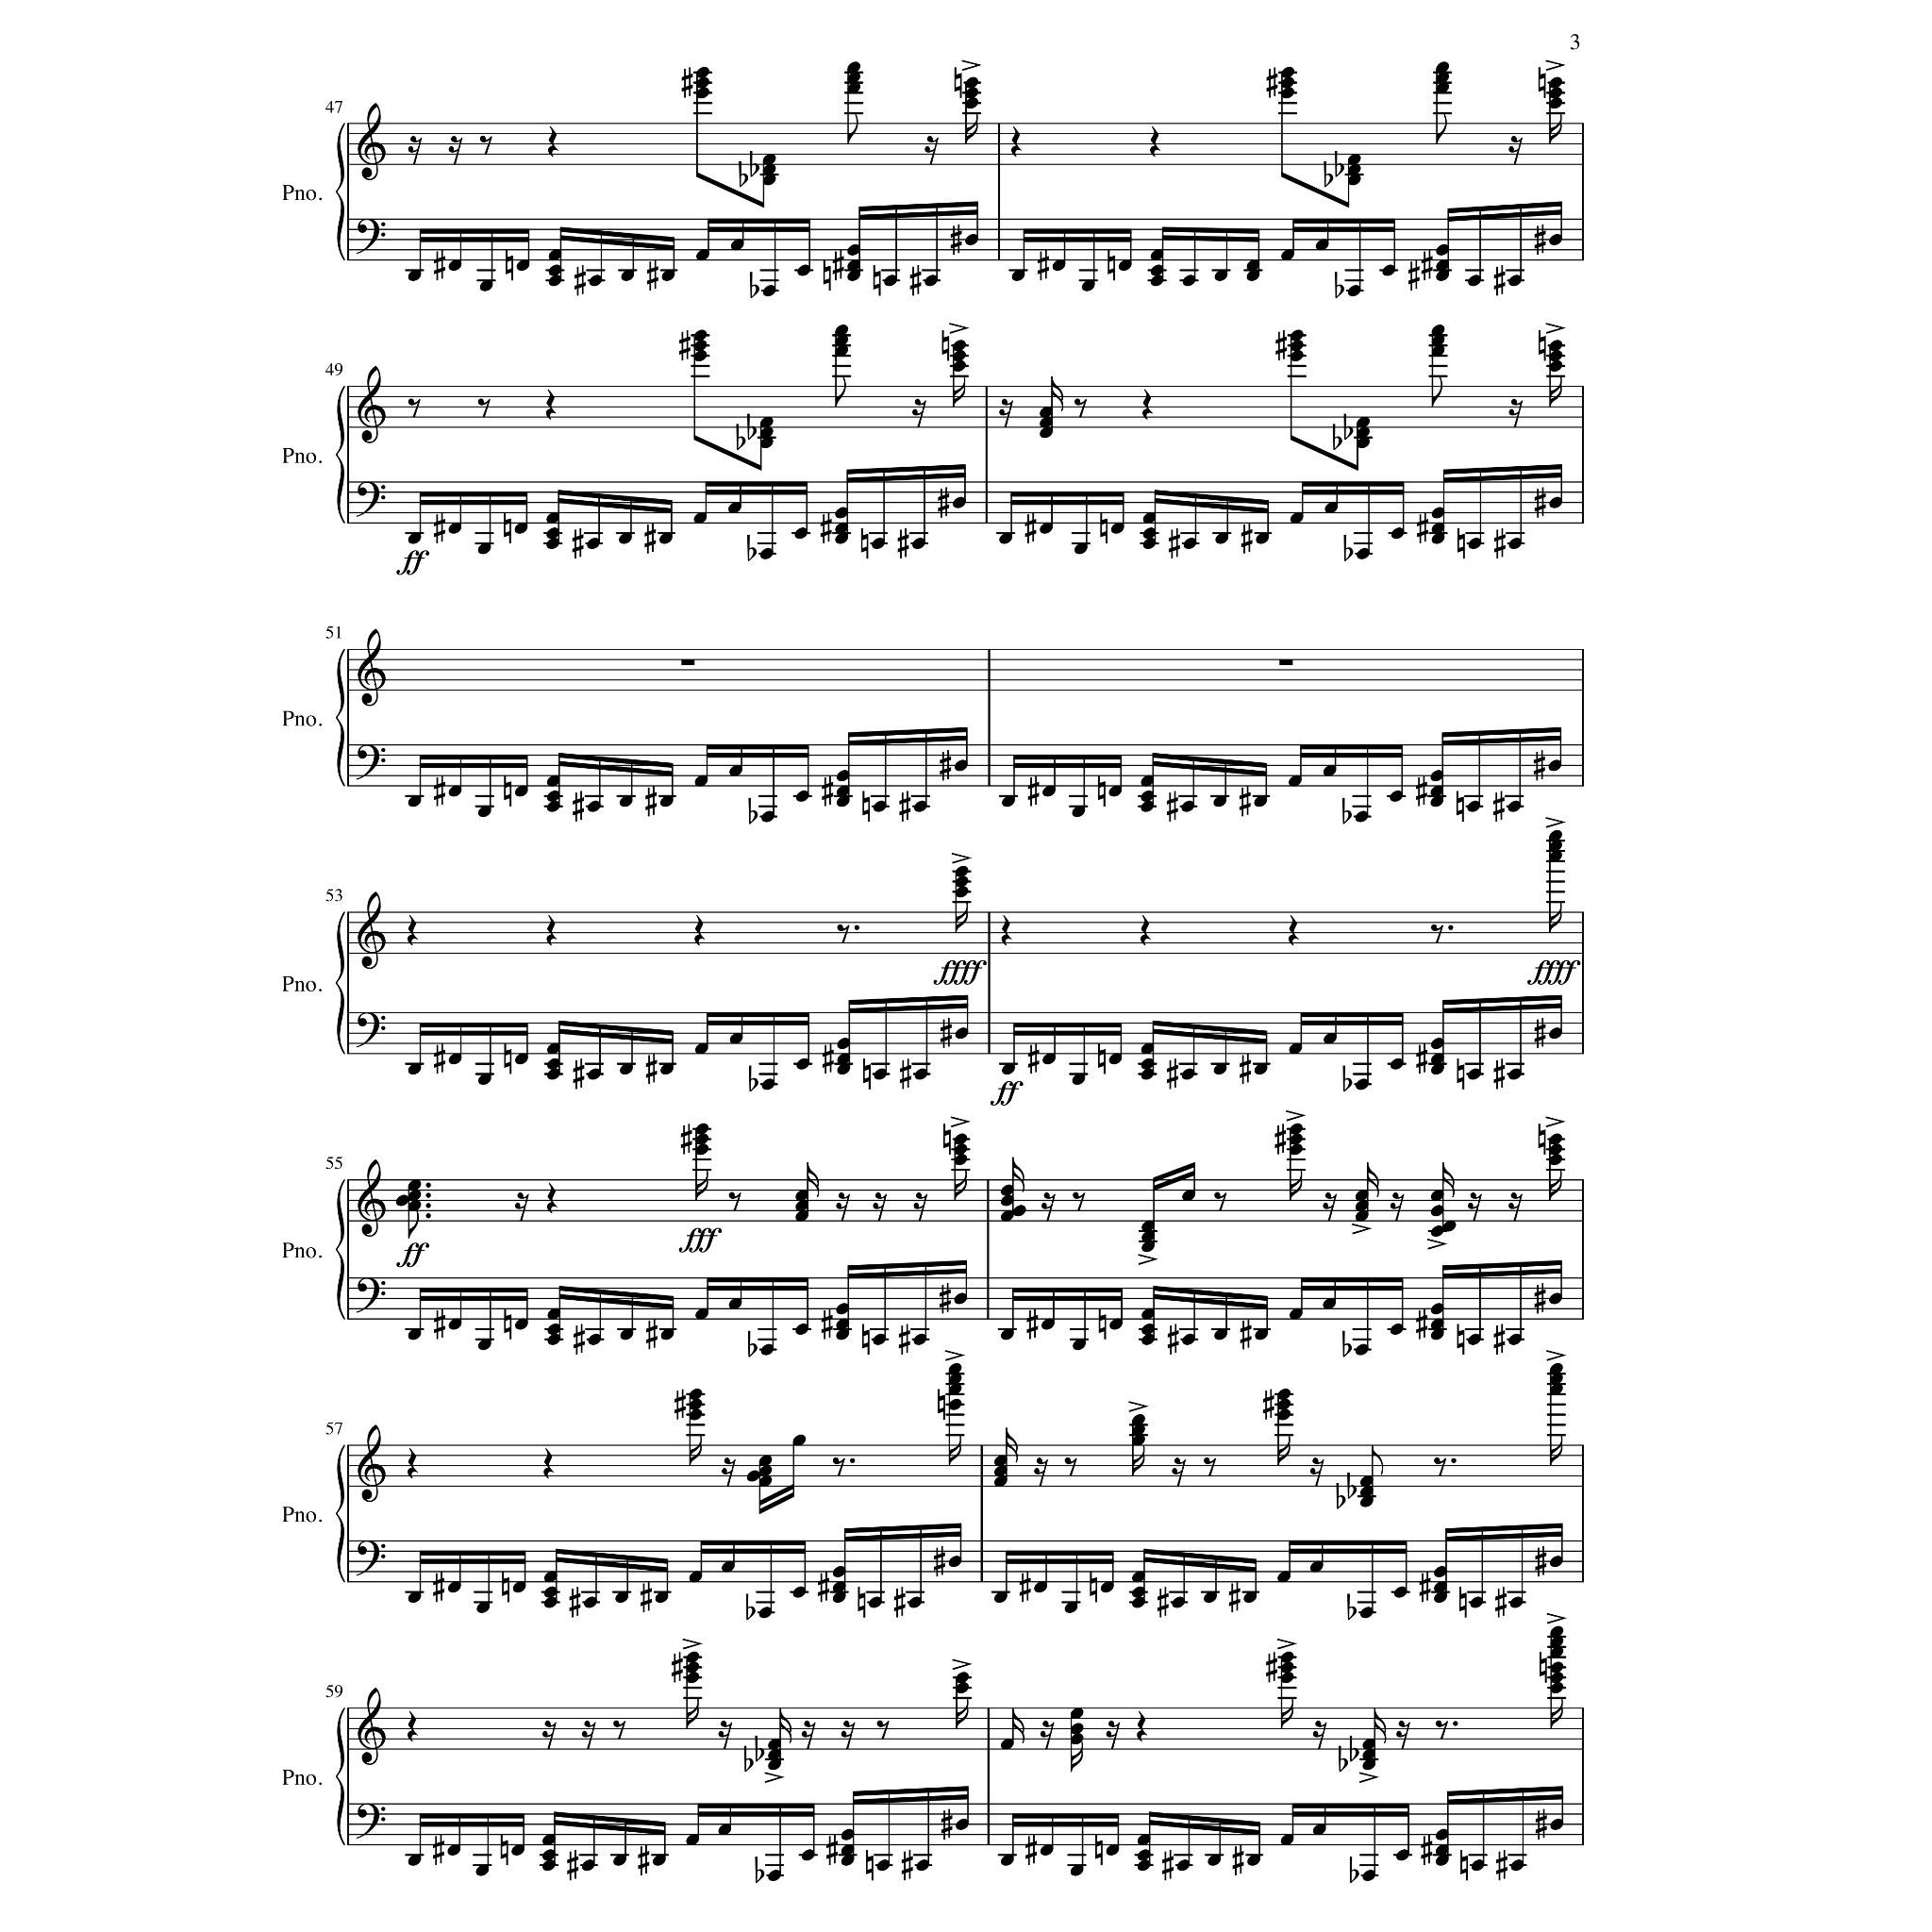brace: (334, 911, 345, 1054), (334, 1180, 345, 1320), (334, 124, 345, 262), (334, 386, 345, 524), (334, 649, 345, 787), (334, 1445, 345, 1583), (334, 1707, 345, 1845)
fClef: (354, 481, 386, 518), (354, 1803, 386, 1840), (354, 219, 386, 255), (354, 745, 386, 780), (354, 1012, 386, 1047), (354, 1277, 386, 1313), (354, 1541, 386, 1576)
flag16thDown: (954, 1169, 968, 1201), (1550, 113, 1562, 145), (966, 113, 978, 145), (1550, 375, 1562, 407), (954, 375, 966, 407), (1550, 902, 1562, 934), (955, 902, 968, 934), (1290, 1169, 1302, 1201), (1550, 1169, 1562, 1201), (695, 1169, 708, 1201), (1132, 1445, 1145, 1477), (1277, 1435, 1290, 1467), (1550, 1435, 1562, 1467), (948, 1435, 961, 1467), (1281, 1698, 1293, 1730), (1550, 1698, 1562, 1730), (686, 1698, 699, 1730), (955, 1698, 968, 1730), (1070, 1743, 1083, 1773), (690, 1435, 701, 1467)
flag16thUp: (1012, 1157, 1024, 1194), (1051, 377, 1063, 412), (1366, 1162, 1378, 1198), (1442, 1162, 1454, 1198), (807, 1162, 819, 1198), (1005, 1428, 1017, 1463), (1012, 1709, 1024, 1744), (1375, 1709, 1387, 1744), (780, 1709, 793, 1744)
flag8thDown: (1431, 375, 1442, 407), (835, 375, 846, 407), (1437, 115, 1447, 145), (847, 115, 858, 145), (409, 1208, 418, 1238)
flag8thUp: (1371, 1445, 1384, 1476)
gClef: (357, 628, 386, 708), (357, 103, 386, 180), (357, 366, 386, 444), (357, 892, 386, 970), (357, 1159, 386, 1237), (357, 1424, 386, 1502), (357, 1688, 386, 1766)
noteheadBlack: (1182, 274, 1196, 287), (1214, 269, 1228, 281), (1150, 249, 1164, 262), (1150, 274, 1164, 287), (1246, 269, 1260, 281), (1279, 249, 1293, 262), (1279, 67, 1293, 80), (1279, 76, 1293, 88), (1279, 87, 1293, 99), (1246, 258, 1260, 271), (1315, 239, 1329, 251), (1010, 269, 1024, 281), (1118, 258, 1132, 271), (1081, 280, 1095, 292), (1051, 258, 1065, 271), (1548, 87, 1562, 99), (1548, 234, 1562, 246), (1548, 76, 1562, 88), (1548, 97, 1562, 110), (1507, 274, 1522, 287), (1346, 285, 1361, 297), (1346, 154, 1361, 166), (1346, 173, 1361, 186), (1467, 274, 1481, 287), (587, 274, 602, 287), (548, 249, 563, 262), (548, 274, 563, 287), (515, 258, 529, 271), (662, 269, 676, 281), (695, 249, 709, 262), (695, 67, 709, 80), (695, 76, 709, 88), (695, 87, 709, 99), (621, 269, 635, 281), (407, 269, 421, 281), (479, 280, 494, 292), (448, 258, 462, 271), (883, 274, 897, 287), (847, 244, 862, 257), (847, 258, 862, 271), (847, 62, 862, 74), (847, 73, 862, 85), (847, 81, 862, 94), (964, 234, 978, 246), (964, 76, 978, 88), (964, 87, 978, 99), (964, 97, 978, 110), (847, 269, 862, 281), (924, 274, 938, 287), (763, 285, 777, 297), (763, 154, 777, 166), (763, 173, 777, 186), (1214, 533, 1228, 545), (1182, 538, 1196, 550), (1141, 511, 1155, 524), (1141, 527, 1155, 540), (1141, 538, 1155, 550), (1323, 502, 1338, 515), (1290, 511, 1304, 524), (1290, 329, 1304, 341), (1290, 340, 1304, 352), (1290, 350, 1304, 363), (1254, 533, 1269, 545), (1039, 522, 1053, 534), (1039, 416, 1053, 428), (1039, 426, 1053, 439), (1109, 522, 1123, 534), (1074, 543, 1088, 556), (1548, 350, 1562, 363), (1548, 497, 1562, 510), (1548, 340, 1562, 352), (1548, 359, 1562, 372), (1507, 538, 1522, 550), (1391, 527, 1405, 540), (1355, 416, 1369, 428), (1355, 426, 1369, 439), (1355, 437, 1369, 449), (1467, 538, 1481, 550), (1431, 508, 1445, 520), (1431, 522, 1445, 534), (1431, 533, 1445, 545), (1431, 324, 1445, 336), (1431, 334, 1445, 347), (1431, 345, 1445, 357), (586, 538, 600, 550), (545, 511, 559, 524), (545, 527, 559, 540), (545, 538, 559, 550), (513, 522, 527, 534), (694, 511, 708, 524), (694, 329, 708, 341), (694, 340, 708, 352), (694, 350, 708, 363), (658, 533, 672, 545), (617, 533, 632, 545), (407, 533, 421, 545), (478, 543, 492, 556), (448, 522, 462, 534), (911, 538, 925, 550), (870, 538, 885, 550), (998, 533, 1012, 545), (952, 497, 966, 510), (952, 340, 966, 352), (952, 350, 966, 363), (952, 359, 966, 372), (759, 416, 773, 428), (759, 426, 773, 439), (759, 437, 773, 449), (727, 502, 741, 515), (835, 345, 849, 357), (835, 334, 849, 347), (794, 527, 809, 540), (835, 324, 849, 336), (835, 533, 849, 545), (835, 508, 849, 520), (835, 522, 849, 534), (1180, 800, 1194, 812), (1139, 775, 1154, 787), (1139, 800, 1154, 812), (1288, 775, 1302, 787), (1253, 796, 1267, 809), (1212, 796, 1226, 809), (1000, 796, 1014, 809), (1108, 786, 1122, 798), (1070, 805, 1085, 817), (1040, 786, 1054, 798), (1548, 759, 1562, 771), (1507, 800, 1522, 812), (1353, 810, 1368, 823), (1322, 764, 1336, 777), (1467, 800, 1481, 812), (1430, 770, 1444, 782), (1430, 786, 1444, 798), (1430, 796, 1444, 809), (545, 775, 559, 787), (545, 800, 559, 812), (513, 786, 527, 798), (478, 805, 492, 817), (658, 796, 672, 809), (619, 796, 633, 809), (586, 800, 600, 812), (448, 786, 462, 798), (407, 796, 421, 809), (835, 786, 849, 798), (872, 800, 886, 812), (835, 770, 849, 782), (835, 796, 849, 809), (954, 759, 968, 771), (913, 800, 927, 812), (727, 764, 741, 777), (694, 775, 708, 787), (761, 810, 775, 823), (1212, 1063, 1226, 1076), (1180, 1069, 1194, 1081), (1139, 1042, 1154, 1054), (1139, 1058, 1154, 1070), (1139, 1069, 1154, 1081), (1288, 1042, 1302, 1054), (1253, 1063, 1267, 1076), (1000, 1063, 1014, 1076), (1108, 1053, 1122, 1065), (1040, 1053, 1054, 1065), (1548, 1028, 1562, 1040), (1548, 830, 1562, 842), (1548, 840, 1562, 853), (1548, 851, 1562, 863), (1430, 1053, 1444, 1065), (1430, 1063, 1444, 1076), (1389, 1058, 1403, 1070), (1430, 1039, 1444, 1051), (1353, 1079, 1368, 1092), (1322, 1033, 1336, 1046), (1507, 1069, 1522, 1081), (1467, 1069, 1481, 1081), (545, 1069, 559, 1081), (545, 1042, 559, 1054), (545, 1058, 559, 1070), (587, 1069, 602, 1081), (513, 1053, 527, 1065), (694, 1042, 708, 1054), (658, 1063, 672, 1076), (619, 1063, 633, 1076), (448, 1053, 462, 1065), (407, 1063, 421, 1076), (913, 1069, 927, 1081), (872, 1069, 886, 1081), (837, 1039, 851, 1051), (954, 1028, 968, 1040), (954, 865, 968, 878), (954, 876, 968, 888), (954, 886, 968, 899), (837, 1053, 851, 1065), (729, 1033, 743, 1046), (761, 1079, 775, 1092), (796, 1058, 810, 1070), (837, 1063, 851, 1076), (1214, 1329, 1228, 1341), (1180, 1334, 1194, 1346), (1180, 1189, 1194, 1201), (1322, 1297, 1336, 1309), (1254, 1329, 1269, 1341), (1288, 1307, 1302, 1320), (1288, 1123, 1302, 1136), (1288, 1134, 1302, 1146), (1040, 1318, 1054, 1330), (1139, 1307, 1154, 1320), (1139, 1323, 1154, 1336), (1139, 1334, 1154, 1346), (1139, 1221, 1154, 1233), (1139, 1240, 1154, 1253), (1109, 1318, 1123, 1330), (1548, 1293, 1562, 1306), (1548, 1134, 1562, 1146), (1548, 1154, 1562, 1166), (1507, 1334, 1522, 1346), (1389, 1323, 1403, 1336), (1353, 1189, 1368, 1201), (1353, 1200, 1368, 1212), (1353, 1210, 1368, 1223), (1467, 1334, 1481, 1346), (1430, 1304, 1444, 1316), (1430, 1318, 1444, 1330), (1430, 1329, 1444, 1341), (1430, 1189, 1444, 1201), (1430, 1205, 1444, 1217), (1442, 1221, 1456, 1233), (1430, 1224, 1444, 1237), (547, 1307, 561, 1320), (587, 1334, 602, 1346), (547, 1323, 561, 1336), (547, 1334, 561, 1346), (694, 1307, 708, 1320), (694, 1123, 708, 1136), (694, 1134, 708, 1146), (513, 1318, 527, 1330), (660, 1329, 674, 1341), (619, 1329, 633, 1341), (407, 1180, 421, 1192), (407, 1189, 421, 1201), (395, 1194, 409, 1207), (407, 1200, 421, 1212), (407, 1329, 421, 1341), (478, 1339, 492, 1352), (448, 1318, 462, 1330), (913, 1334, 927, 1346), (954, 1154, 968, 1166), (872, 1334, 886, 1346), (1000, 1329, 1014, 1341), (1000, 1184, 1014, 1196), (1000, 1194, 1014, 1207), (1012, 1205, 1026, 1217), (1000, 1210, 1014, 1223), (954, 1293, 968, 1306), (954, 1134, 968, 1146), (794, 1323, 809, 1336), (794, 1189, 809, 1201), (794, 1200, 809, 1212), (794, 1210, 809, 1223), (727, 1297, 741, 1309), (835, 1318, 849, 1330), (835, 1329, 849, 1341), (835, 1304, 849, 1316), (1131, 1596, 1145, 1608), (1171, 1596, 1185, 1608), (1131, 1587, 1145, 1599), (1131, 1571, 1145, 1583), (1276, 1571, 1290, 1583), (1276, 1389, 1290, 1401), (1276, 1398, 1290, 1410), (1276, 1408, 1290, 1421), (1203, 1591, 1217, 1603), (1033, 1582, 1047, 1594), (1131, 1414, 1145, 1426), (1131, 1424, 1145, 1437), (1131, 1435, 1145, 1447), (1099, 1582, 1113, 1594), (1063, 1601, 1077, 1614), (1548, 1555, 1562, 1568), (1548, 1362, 1562, 1375), (1548, 1373, 1562, 1385), (1548, 1384, 1562, 1396), (1509, 1596, 1523, 1608), (1468, 1596, 1483, 1608), (1359, 1606, 1373, 1619), (1359, 1476, 1373, 1488), (1359, 1495, 1373, 1507), (1309, 1560, 1323, 1573), (1433, 1566, 1447, 1578), (1433, 1582, 1447, 1594), (1433, 1591, 1447, 1603), (1392, 1587, 1407, 1599), (614, 1591, 628, 1603), (582, 1596, 596, 1608), (655, 1591, 669, 1603), (543, 1571, 557, 1583), (543, 1587, 557, 1599), (543, 1596, 557, 1608), (720, 1560, 734, 1573), (688, 1571, 702, 1583), (688, 1389, 702, 1401), (688, 1398, 702, 1410), (688, 1408, 702, 1421), (407, 1591, 421, 1603), (511, 1582, 525, 1594), (476, 1601, 490, 1614), (446, 1582, 460, 1594), (908, 1596, 922, 1608), (948, 1398, 962, 1410), (867, 1596, 881, 1608), (993, 1591, 1007, 1603), (993, 1454, 1007, 1467), (993, 1465, 1007, 1477), (993, 1476, 1007, 1488), (948, 1555, 962, 1568), (948, 1362, 962, 1375), (948, 1373, 962, 1385), (948, 1384, 962, 1396), (793, 1587, 807, 1599), (793, 1435, 807, 1447), (757, 1606, 771, 1619), (757, 1454, 771, 1467), (757, 1465, 771, 1477), (745, 1470, 759, 1483), (757, 1476, 771, 1488), (832, 1566, 846, 1578), (832, 1582, 846, 1594), (832, 1591, 846, 1603), (1177, 1859, 1191, 1872), (1207, 1854, 1221, 1867), (1136, 1833, 1150, 1845), (1136, 1849, 1150, 1861), (1136, 1859, 1150, 1872), (1279, 1833, 1293, 1845), (1279, 1651, 1293, 1663), (1279, 1661, 1293, 1674), (1279, 1672, 1293, 1684), (1247, 1854, 1261, 1867), (1039, 1844, 1053, 1856), (1106, 1844, 1120, 1856), (1069, 1865, 1083, 1877), (1069, 1707, 1083, 1720), (1069, 1723, 1083, 1736), (1069, 1734, 1083, 1746), (1550, 1819, 1564, 1831), (1550, 1626, 1564, 1638), (1550, 1637, 1564, 1649), (1550, 1647, 1564, 1660), (1550, 1661, 1564, 1674), (1550, 1672, 1564, 1684), (1550, 1681, 1564, 1693), (1509, 1859, 1523, 1872), (1470, 1859, 1484, 1872), (1362, 1737, 1376, 1750), (1362, 1748, 1376, 1760), (1362, 1759, 1376, 1771), (1435, 1844, 1449, 1856), (1435, 1829, 1449, 1842), (1311, 1824, 1325, 1836), (1435, 1854, 1449, 1867), (612, 1854, 626, 1867), (580, 1859, 594, 1872), (541, 1833, 556, 1845), (541, 1849, 556, 1861), (541, 1859, 556, 1872), (685, 1672, 699, 1684), (685, 1833, 699, 1845), (685, 1651, 699, 1663), (685, 1661, 699, 1674), (651, 1854, 665, 1867), (407, 1854, 421, 1867), (510, 1844, 524, 1856), (474, 1865, 488, 1877), (446, 1844, 460, 1856), (876, 1859, 890, 1872), (840, 1829, 855, 1842), (840, 1844, 855, 1856), (840, 1854, 855, 1867), (1000, 1854, 1014, 1867), (1000, 1737, 1014, 1750), (954, 1819, 968, 1831), (954, 1672, 968, 1684), (954, 1681, 968, 1693), (915, 1859, 929, 1872), (768, 1748, 782, 1760), (768, 1737, 782, 1750), (768, 1759, 782, 1771), (800, 1849, 814, 1861), (1437, 244, 1449, 257), (1437, 258, 1449, 271), (1437, 269, 1449, 281), (1437, 62, 1449, 74), (1437, 73, 1449, 85), (1437, 81, 1449, 94), (731, 239, 743, 251), (1072, 1339, 1085, 1352), (1244, 1591, 1256, 1603), (1396, 1849, 1408, 1861), (718, 1824, 731, 1836), (1150, 265, 1164, 276), (1380, 265, 1394, 276), (1346, 165, 1361, 175), (548, 265, 563, 276), (763, 165, 777, 175), (796, 265, 810, 276), (1039, 407, 1053, 418), (1355, 548, 1369, 559), (759, 548, 773, 559), (1139, 791, 1154, 801), (1389, 791, 1403, 801), (545, 791, 559, 801), (794, 791, 809, 801), (1070, 1074, 1085, 1085), (478, 1074, 492, 1085), (1288, 1145, 1302, 1155), (1139, 1231, 1154, 1242), (1548, 1145, 1562, 1155), (1353, 1345, 1368, 1355), (694, 1145, 708, 1155), (954, 1145, 968, 1155), (759, 1345, 773, 1355), (1359, 1486, 1373, 1497), (1362, 1870, 1376, 1881), (768, 1870, 782, 1881)
rest16th: (1507, 136, 1523, 166), (448, 136, 464, 166), (924, 136, 939, 166), (1507, 398, 1523, 428), (911, 398, 927, 428), (998, 398, 1014, 428), (1322, 1192, 1338, 1223), (1040, 1192, 1056, 1223), (1507, 1192, 1523, 1223), (1467, 1192, 1483, 1223), (1309, 1458, 1325, 1488), (720, 1458, 736, 1488), (1311, 1721, 1327, 1750), (1104, 1721, 1120, 1750), (580, 1721, 596, 1750), (541, 1721, 557, 1750), (407, 136, 421, 166), (1389, 1192, 1403, 1223), (515, 1192, 529, 1223), (913, 1192, 927, 1223), (872, 1192, 886, 1223), (835, 1192, 849, 1223), (1171, 1458, 1185, 1488), (1033, 1458, 1047, 1488), (1040, 1721, 1054, 1750), (1396, 1721, 1410, 1750), (840, 1721, 855, 1750), (718, 1721, 732, 1750), (801, 1721, 816, 1750)
rest8th: (407, 398, 421, 418), (1430, 924, 1444, 943), (1063, 1458, 1077, 1477), (832, 1458, 846, 1477), (612, 1720, 626, 1739), (479, 136, 492, 156), (1074, 398, 1086, 418), (478, 398, 490, 418), (837, 924, 849, 943), (1214, 1192, 1226, 1212), (1072, 1192, 1085, 1212), (729, 1192, 741, 1212), (1203, 1458, 1215, 1477), (1433, 1458, 1445, 1477), (1435, 1720, 1447, 1739), (876, 1720, 888, 1739)
restQuarter: (1148, 126, 1161, 157), (547, 126, 559, 157), (1141, 389, 1154, 421), (545, 389, 557, 421), (1139, 915, 1152, 947), (1000, 915, 1012, 947), (545, 915, 557, 947), (1010, 126, 1021, 157), (1288, 915, 1299, 947), (694, 915, 704, 947), (407, 915, 418, 947), (547, 1182, 557, 1214), (543, 1447, 554, 1479), (407, 1447, 418, 1479), (1136, 1711, 1146, 1743), (407, 1711, 418, 1743)
restWhole: (681, 658, 695, 665), (1279, 658, 1293, 665)
